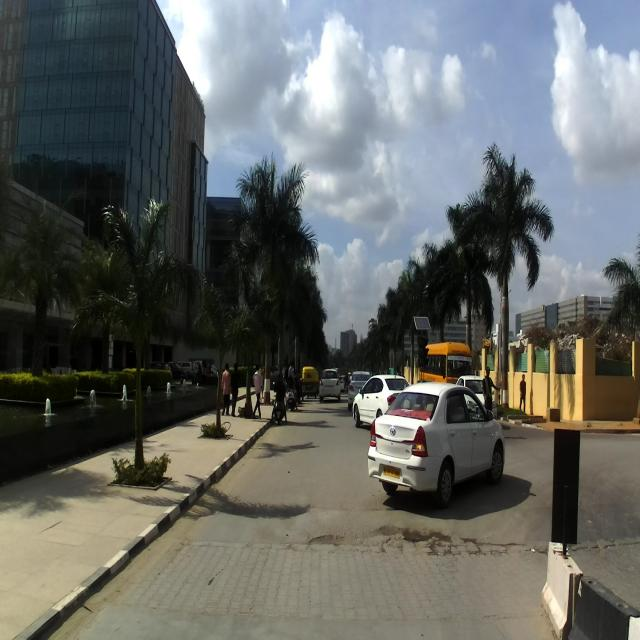car: (367, 381, 505, 507), (352, 374, 411, 426)
